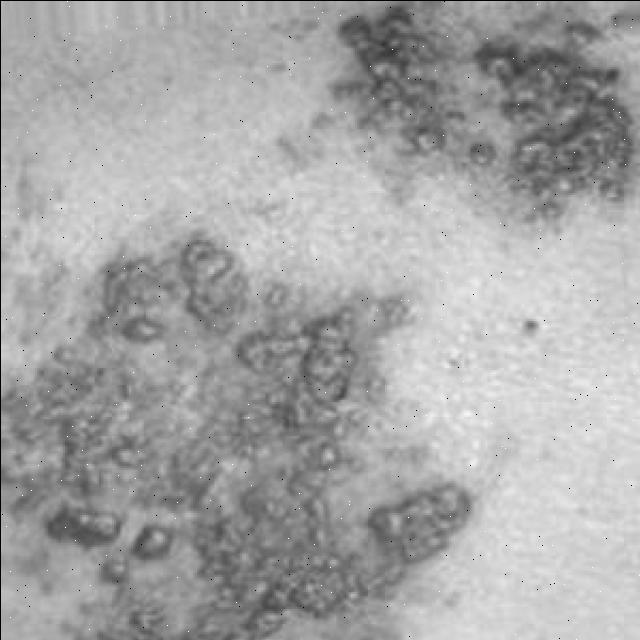Shingles: (0, 232, 477, 640), (329, 1, 638, 216)
